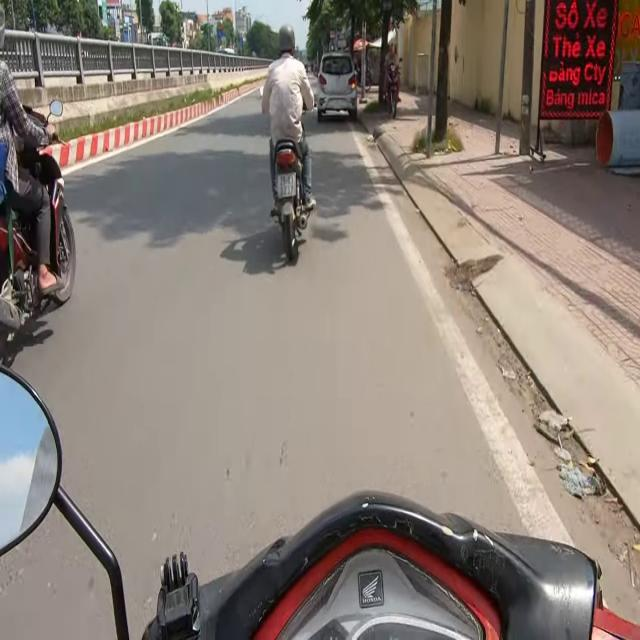bien_trang: (275, 173, 297, 201)
